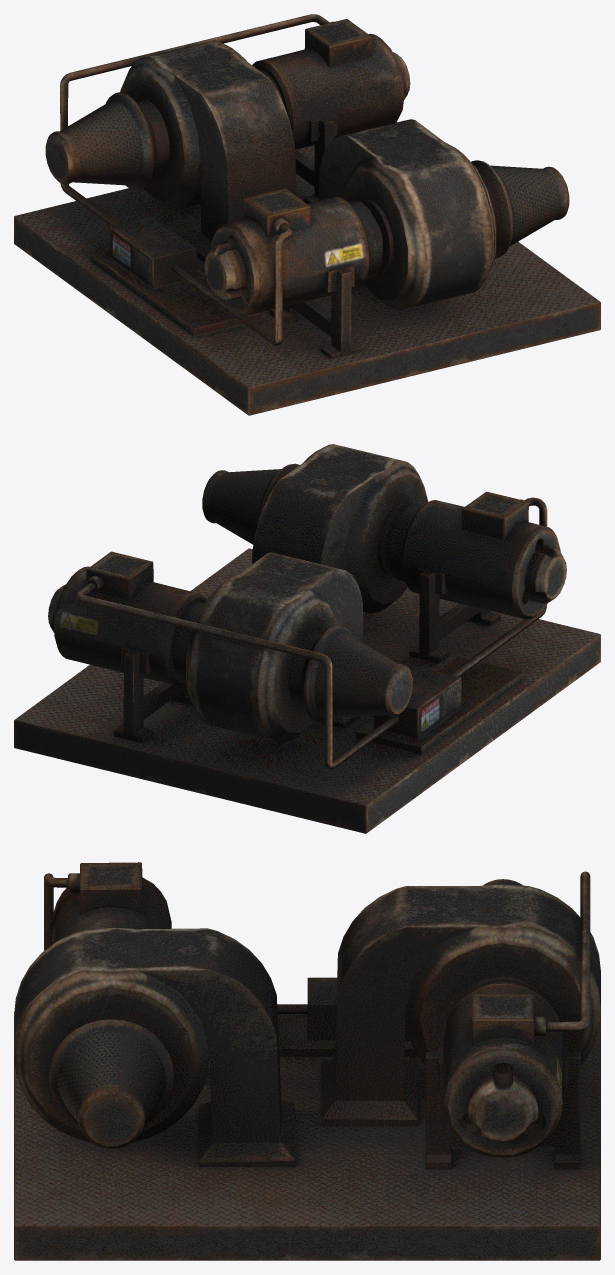
The model's file is Lo-Fi Air Exchanger Fan.fbx.
The picture shows the model from 3 angles, top to bottom: view 1: azimuth 30°, elevation 25°; view 2: azimuth 150°, elevation 25°; view 3: azimuth 270°, elevation 25°; orthographic projection. The views are drawn at different scales.
Visible parts, largest first — view 1: Air Exchanger Fan; view 2: Air Exchanger Fan; view 3: Air Exchanger Fan.
Boxes of the visible parts, left/top/right/bottom form: Air Exchanger Fan: left=14, top=14, right=600, bottom=415; Air Exchanger Fan: left=14, top=444, right=600, bottom=833; Air Exchanger Fan: left=14, top=862, right=600, bottom=1260.
Size of the model in its own units: 520 by 600 by 255.
Materials: 1 (1 with a texture image).
